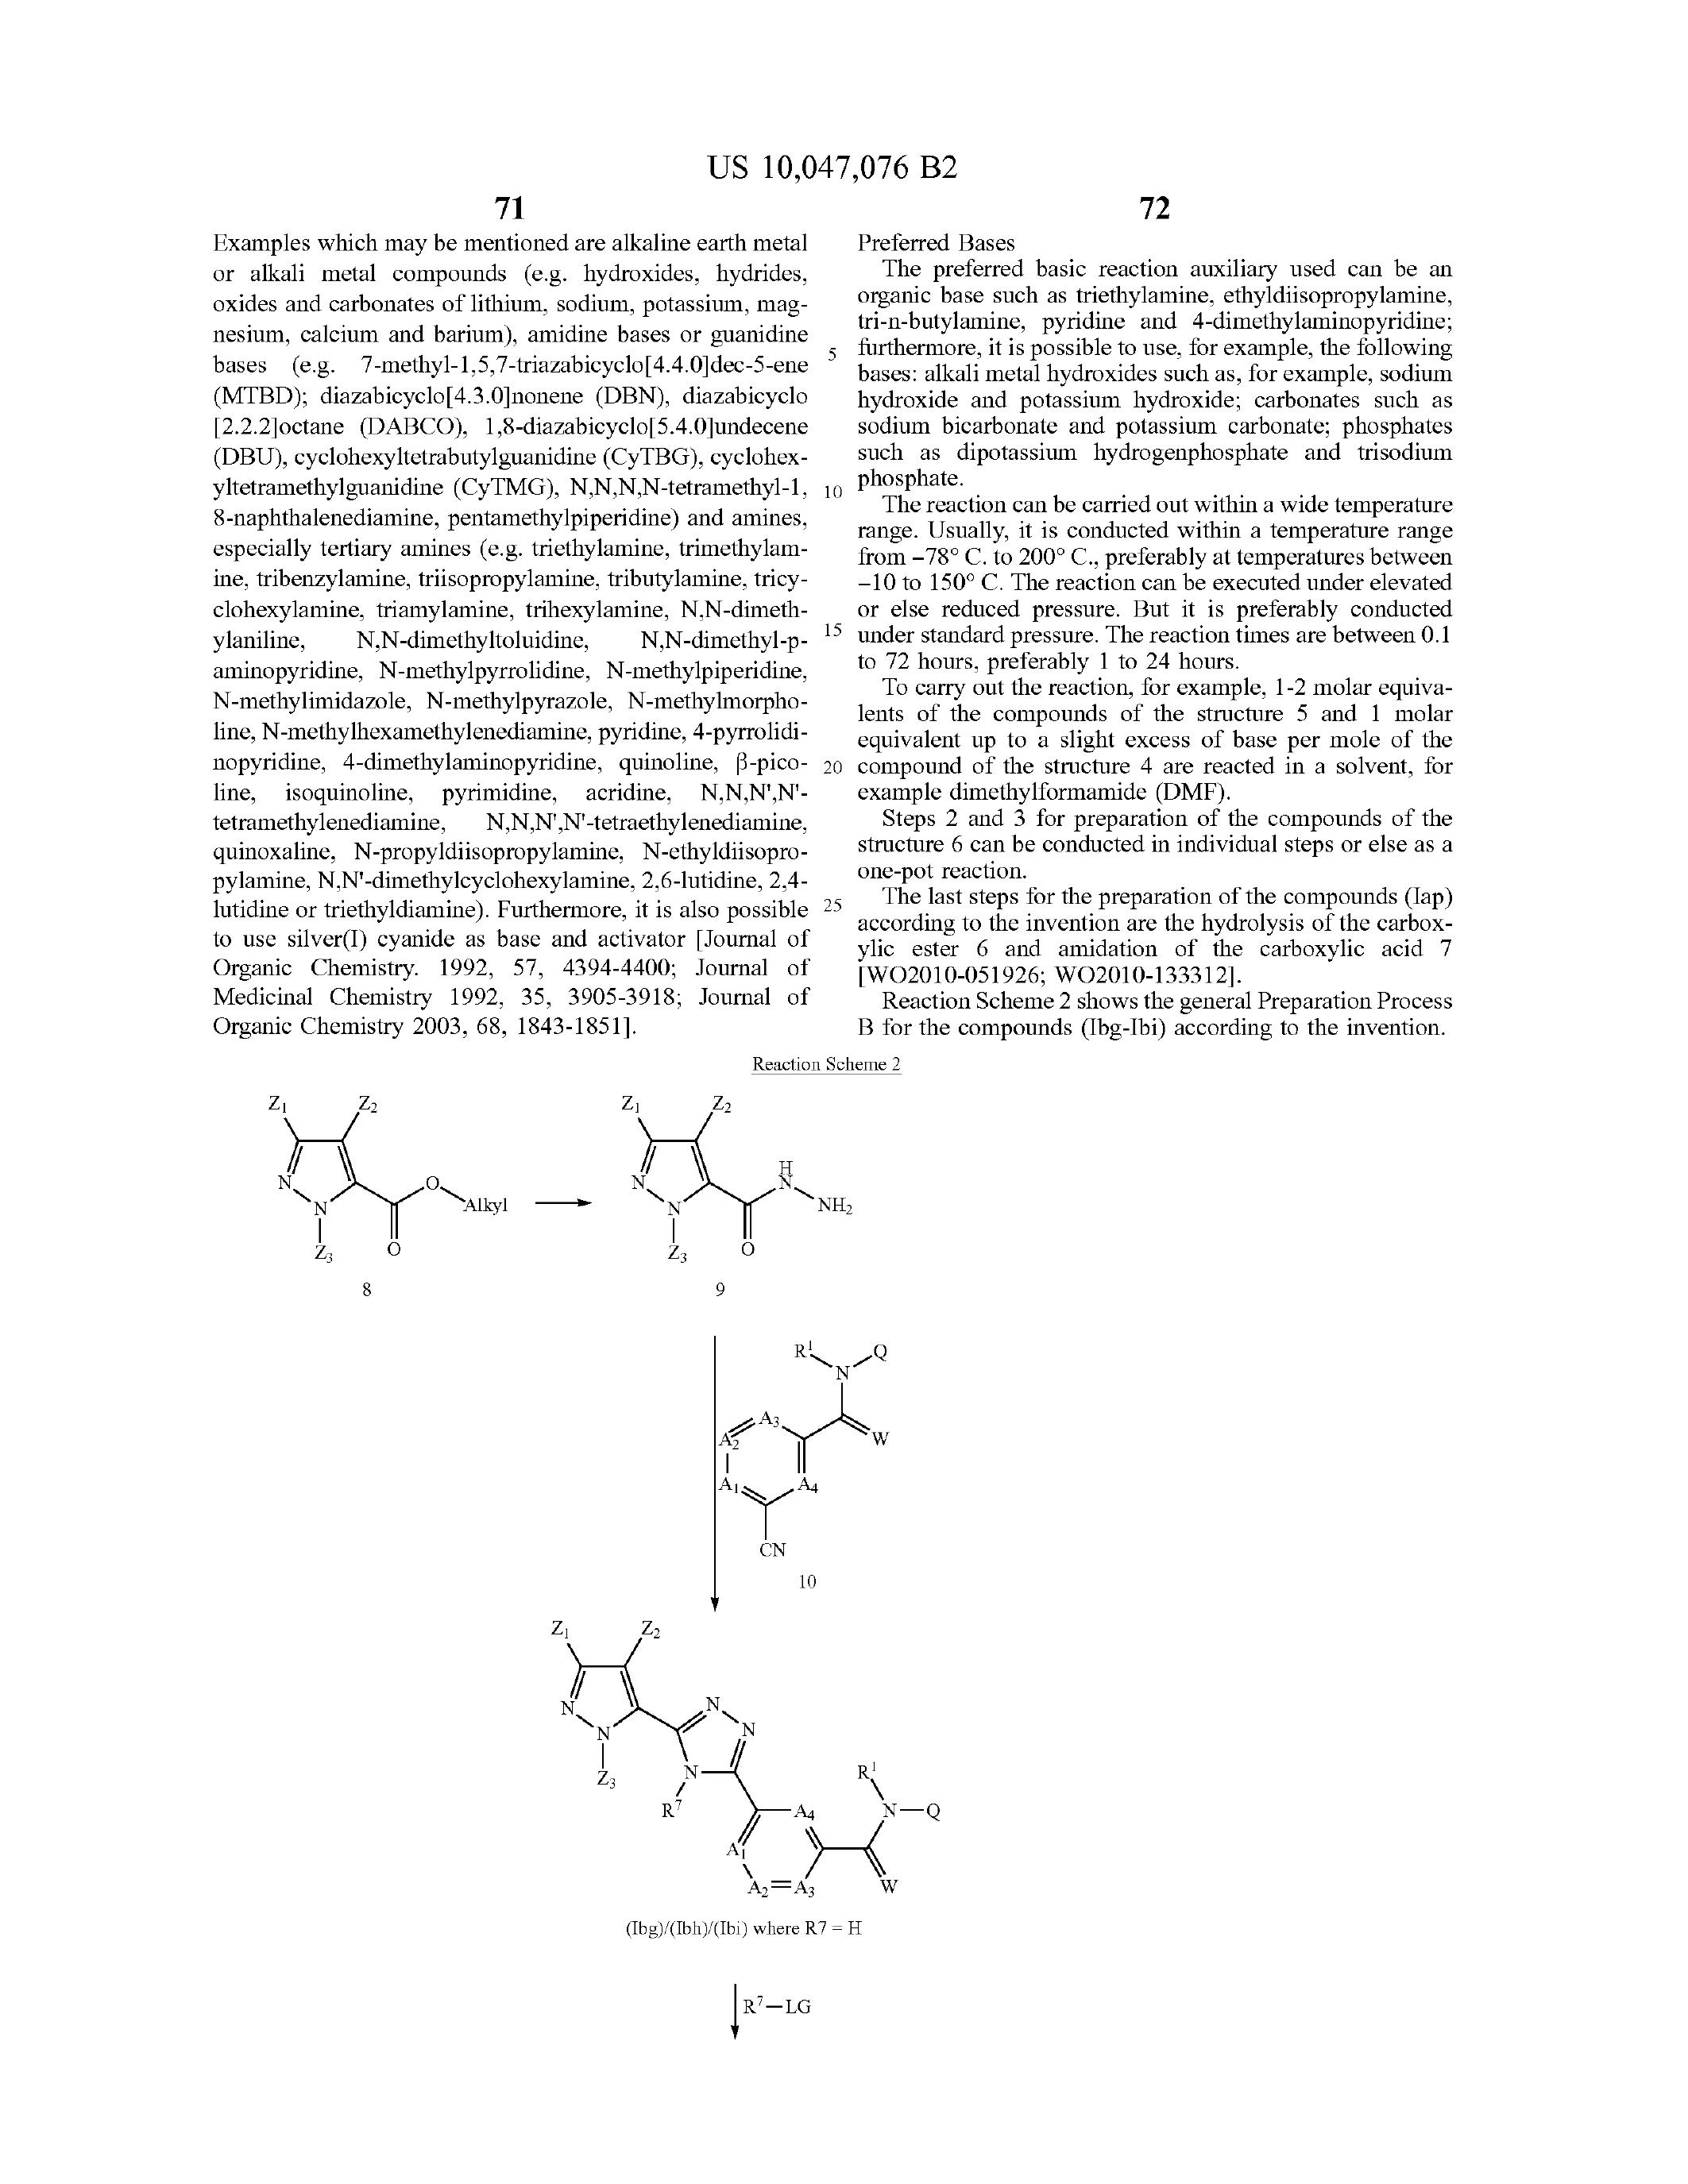reactions: (181, 1071, 1039, 2056)
